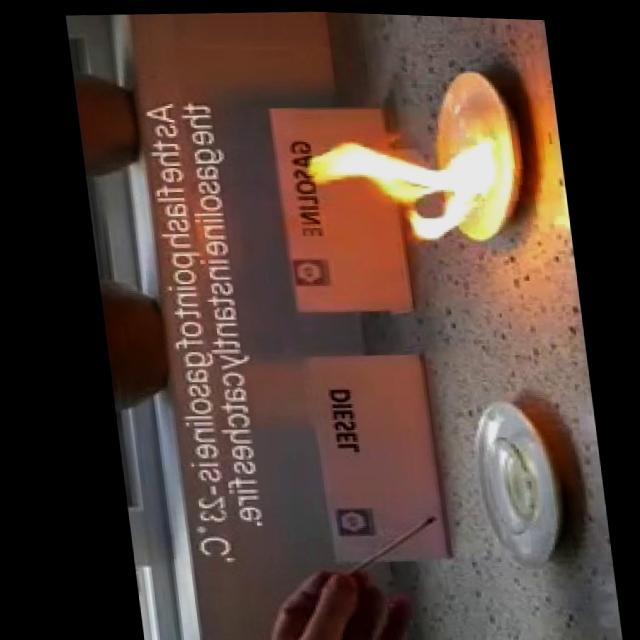helmet: (288, 117, 508, 246)
